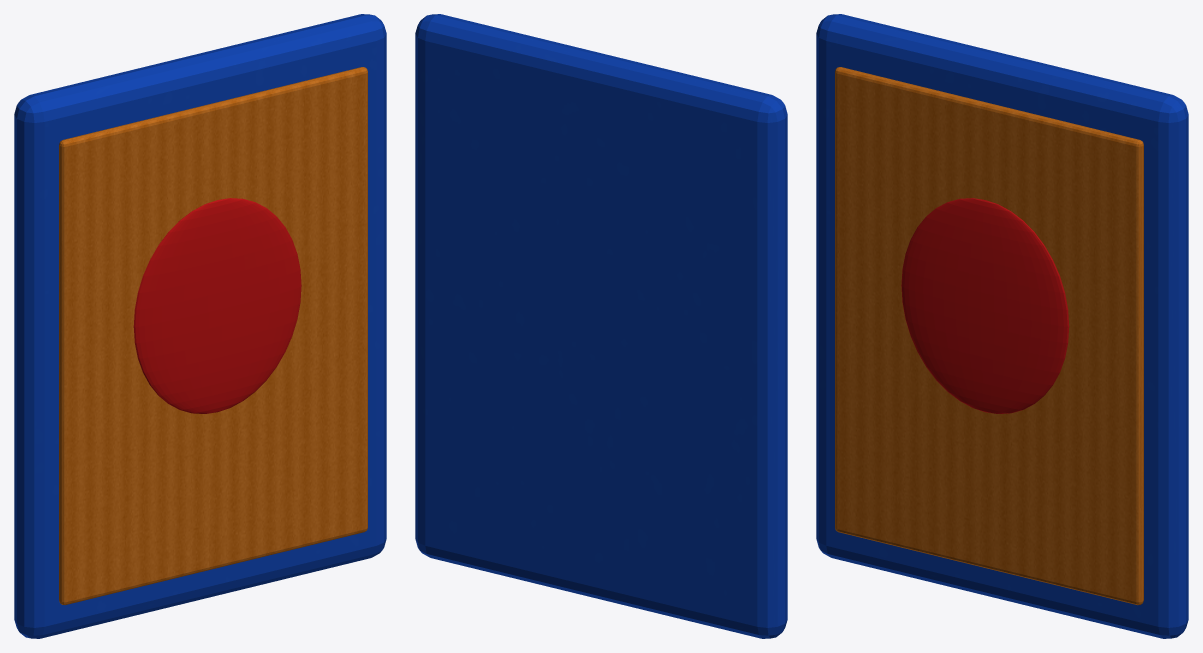
File: carte-sportive.glb
The picture shows the model from 3 angles, left to right: view 1: azimuth 30°, elevation 25°; view 2: azimuth 150°, elevation 25°; view 3: azimuth 330°, elevation 25°; orthographic projection.
Visible parts, largest first — view 1: Cadre, Carte, Portrait; view 2: Carte; view 3: Cadre, Carte, Portrait.
Part boxes in pixels (<box>): Cadre: <box>59,67,367,605</box>; Carte: <box>14,14,386,638</box>; Portrait: <box>133,198,301,413</box>; Carte: <box>415,14,787,638</box>; Cadre: <box>835,67,1143,605</box>; Carte: <box>816,14,1188,638</box>; Portrait: <box>901,198,1069,413</box>.
Size of the model in its own units: 2.1 by 2.96 by 0.31.
Materials: 3 (3 with a texture image).
